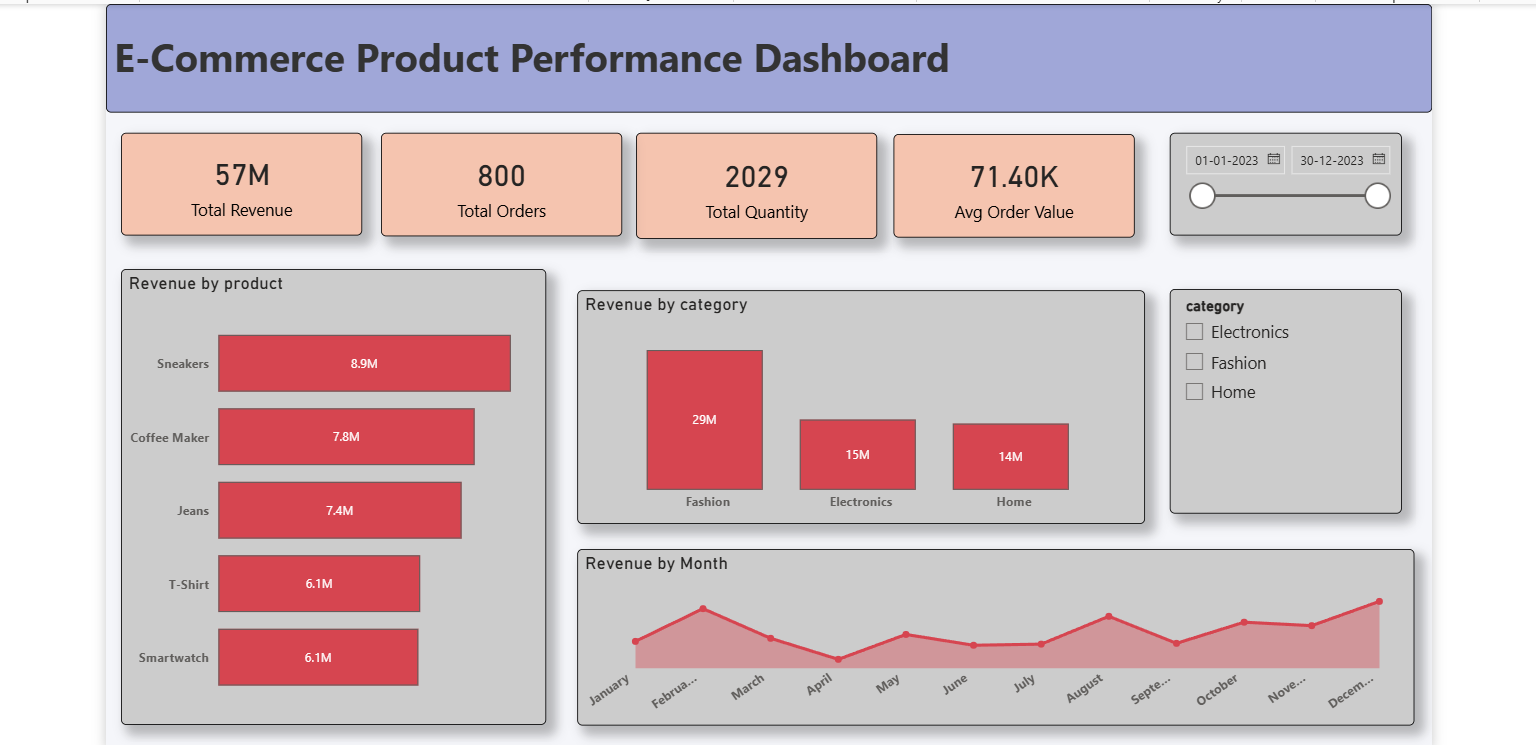

What the dashboard file says about the page in this screenshot:
{"tool":"powerbi","page":{"name":"PPDB","canvas":[1280,720],"ordinal":0},"visuals":[{"type":"card","fields":{"Values":["orders_powerbi_project.Total Revenue"]},"box":[14.5,124.3,232.8,98.9],"z":0},{"type":"card","fields":{"Values":["orders_powerbi_project.Total Quantity"]},"box":[511.5,124.3,232.8,102.5],"z":1000},{"type":"card","fields":{"Values":["orders_powerbi_project.Avg Order Value"]},"box":[760.1,125.5,232.8,100.1],"z":2000},{"type":"card","fields":{"Values":["orders_powerbi_project.Total Orders"]},"box":[265.4,124.3,232.8,100.1],"z":3000},{"type":"clusteredColumnChart","fields":{"Category":["products_powerbi_project.category"],"Y":["orders_powerbi_project.Total Revenue"]},"box":[454.8,276.3,547.7,225.6],"z":4000},{"type":"clusteredBarChart","title":"Revenue by product ","fields":{"Category":["products_powerbi_project.product_name"],"Y":["orders_powerbi_project.Total Revenue"]},"box":[14.5,255.8,410.2,440.4],"z":5000},{"type":"lineChart","title":"Revenue by Month","fields":{"Category":["orders_powerbi_project.order_date.Variation.Date Hierarchy.Month"],"Y":["orders_powerbi_project.Total Revenue"]},"box":[454.8,526,808.3,170.1],"z":6000},{"type":"slicer","fields":{"Values":["products_powerbi_project.category"]},"box":[1026.7,275.1,224.4,217.2],"z":7000},{"type":"slicer","fields":{"Values":["orders_powerbi_project.order_date"]},"box":[1026.7,124.3,224.4,98.9],"z":8000},{"type":"textbox","box":[0,0,1280,105],"z":9000}]}

Visuals, with their boxes in screenshot pixels (x1, y1, x2, y2):
card - orders_powerbi_project.Total Revenue: bbox=(111, 127, 357, 232)
card - orders_powerbi_project.Total Quantity: bbox=(636, 127, 882, 236)
card - orders_powerbi_project.Avg Order Value: bbox=(899, 129, 1145, 234)
card - orders_powerbi_project.Total Orders: bbox=(376, 127, 622, 233)
clusteredColumnChart - products_powerbi_project.category x orders_powerbi_project.Total Revenue: bbox=(576, 288, 1155, 526)
"Revenue by product " clusteredBarChart: bbox=(111, 266, 545, 732)
"Revenue by Month" lineChart: bbox=(576, 552, 1430, 731)
slicer - products_powerbi_project.category: bbox=(1181, 287, 1418, 516)
slicer - orders_powerbi_project.order_date: bbox=(1181, 127, 1418, 232)
textbox: bbox=(96, 0, 1448, 107)
